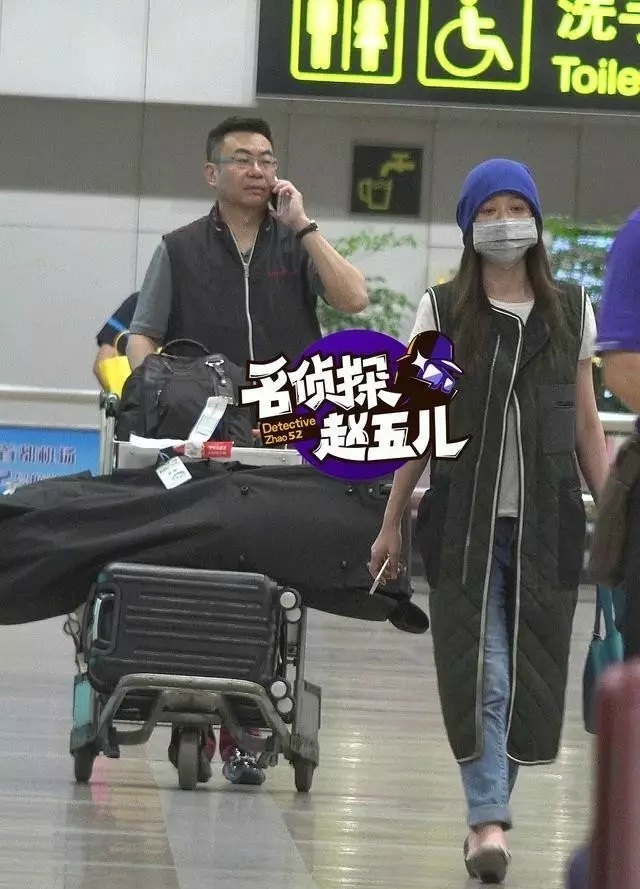face: (219, 131, 273, 207)
face_mask: (474, 182, 532, 267)
